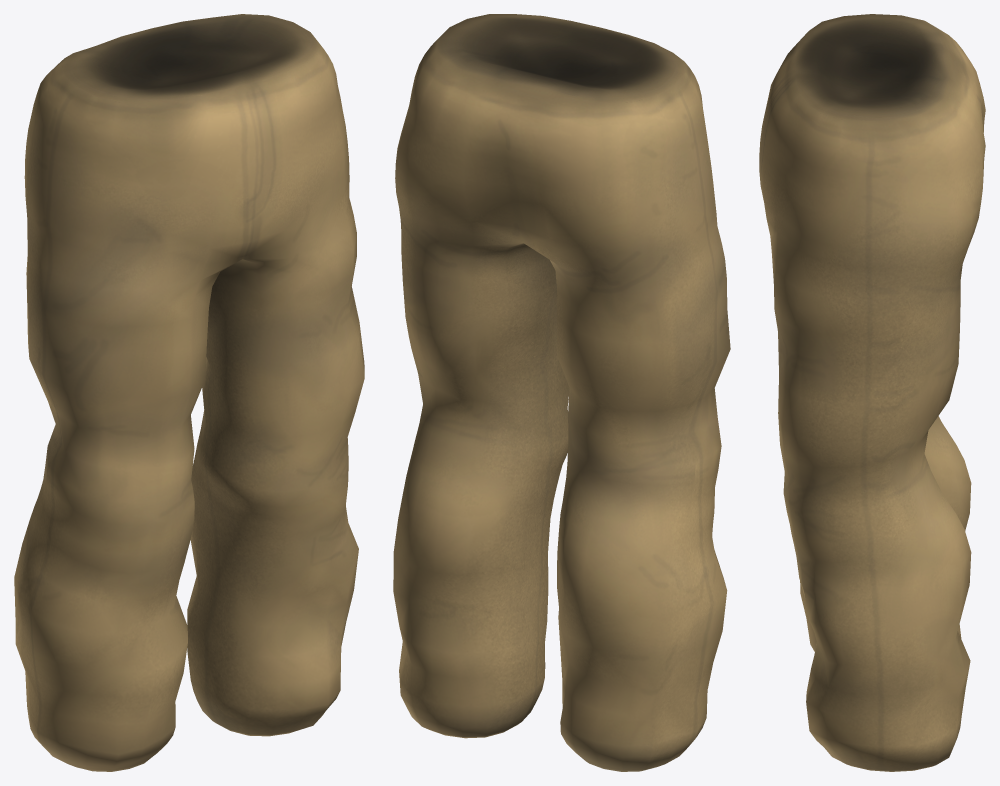
Rendered from garment.glb.
3 views of the same model, side by side, from view 1: azimuth 30°, elevation 25°; view 2: azimuth 150°, elevation 25°; view 3: azimuth 270°, elevation 25° (orthographic). The views are drawn at different scales.
Parts seen in each view (by area): view 1: cargo pants; view 2: cargo pants; view 3: cargo pants.
Boxes of the visible parts, box(x1,y1,x2,y2) form: cargo pants: box(14, 14, 364, 771); cargo pants: box(393, 14, 730, 771); cargo pants: box(759, 14, 985, 771).
Size of the model in its own units: 0.4027 by 0.8435 by 0.2659.
1 material, 1 textured.
